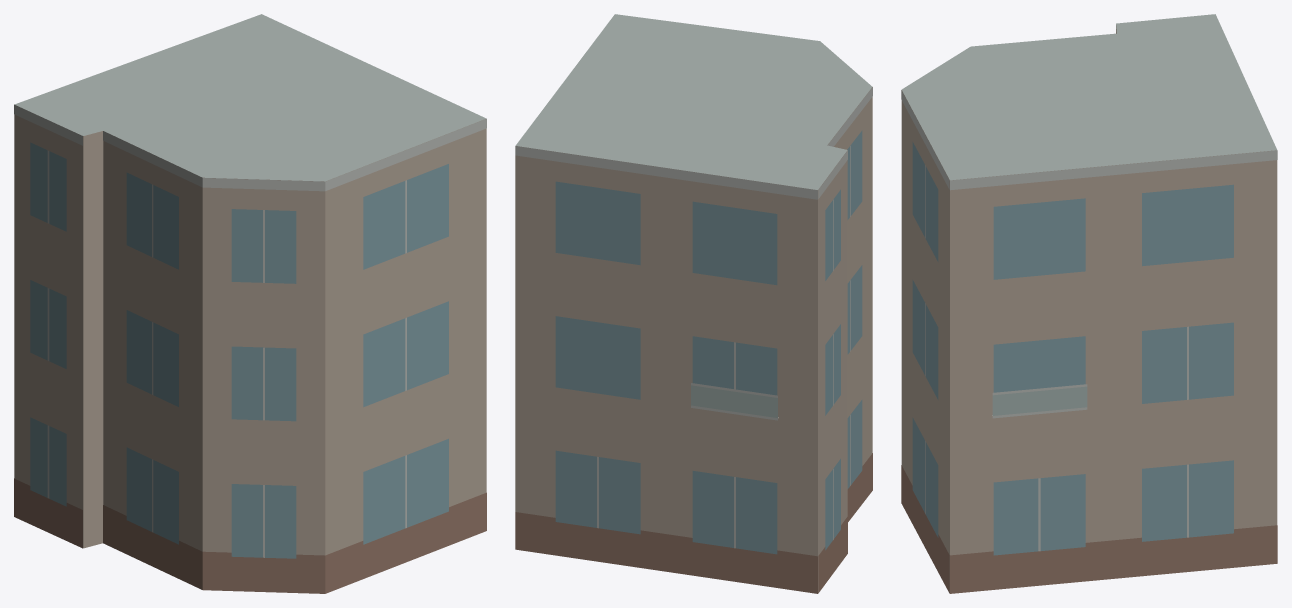
File: survey-upis-32615403.glb
3 renders of one model, left to right at view 1: azimuth 30°, elevation 25°; view 2: azimuth 150°, elevation 25°; view 3: azimuth 270°, elevation 25°, orthographic. The views are drawn at different scales.
Parts seen in each view (by area): view 1: survey-upis-32615403.tmp; view 2: survey-upis-32615403.tmp; view 3: survey-upis-32615403.tmp.
Part boxes in pixels (x1=…): survey-upis-32615403.tmp: x1=14, y1=14, x2=486, y2=593; survey-upis-32615403.tmp: x1=515, y1=14, x2=872, y2=593; survey-upis-32615403.tmp: x1=901, y1=14, x2=1277, y2=593.
Bounding box in the file's own units: 8.81 × 10.2 × 8.42.
